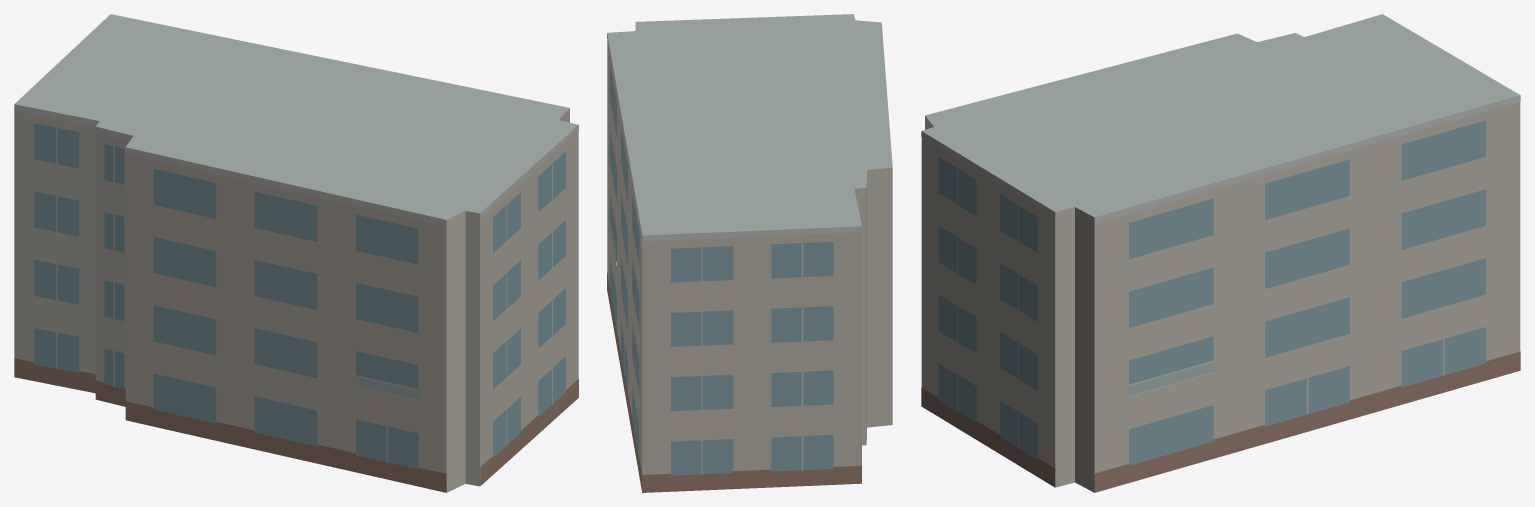
The model's file is survey-upis-32583227.glb.
3 views of the same model, side by side, from view 1: azimuth 30°, elevation 25°; view 2: azimuth 150°, elevation 25°; view 3: azimuth 270°, elevation 25° (orthographic). The views are drawn at different scales.
Parts seen in each view (by area): view 1: survey-upis-32583227.tmp; view 2: survey-upis-32583227.tmp; view 3: survey-upis-32583227.tmp.
Boxes of the visible parts, bbox=[...] form: survey-upis-32583227.tmp: bbox=[14, 14, 578, 492]; survey-upis-32583227.tmp: bbox=[607, 14, 892, 492]; survey-upis-32583227.tmp: bbox=[921, 14, 1520, 492].
Bounding box in the file's own units: 16.64 × 10.5 × 20.7.
